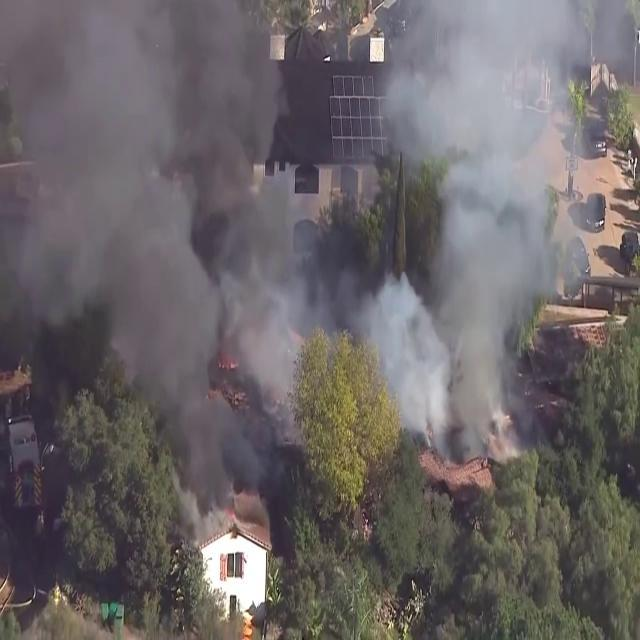Smoke: (0, 0, 324, 446), (374, 0, 596, 446)
